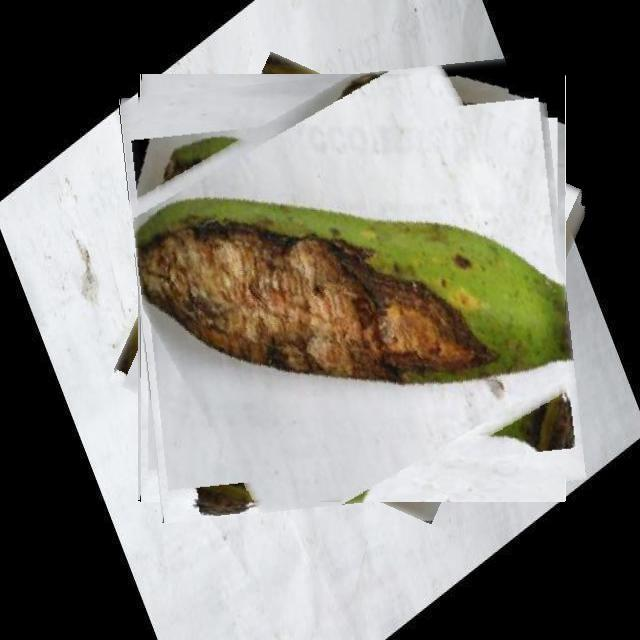Podre: (128, 65, 576, 512)
